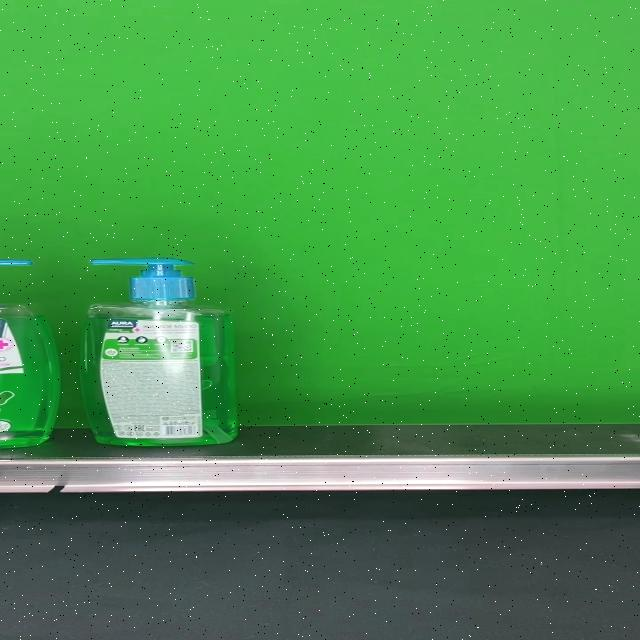Bottle: (81, 258, 240, 447)
Cap: (91, 258, 195, 301)
